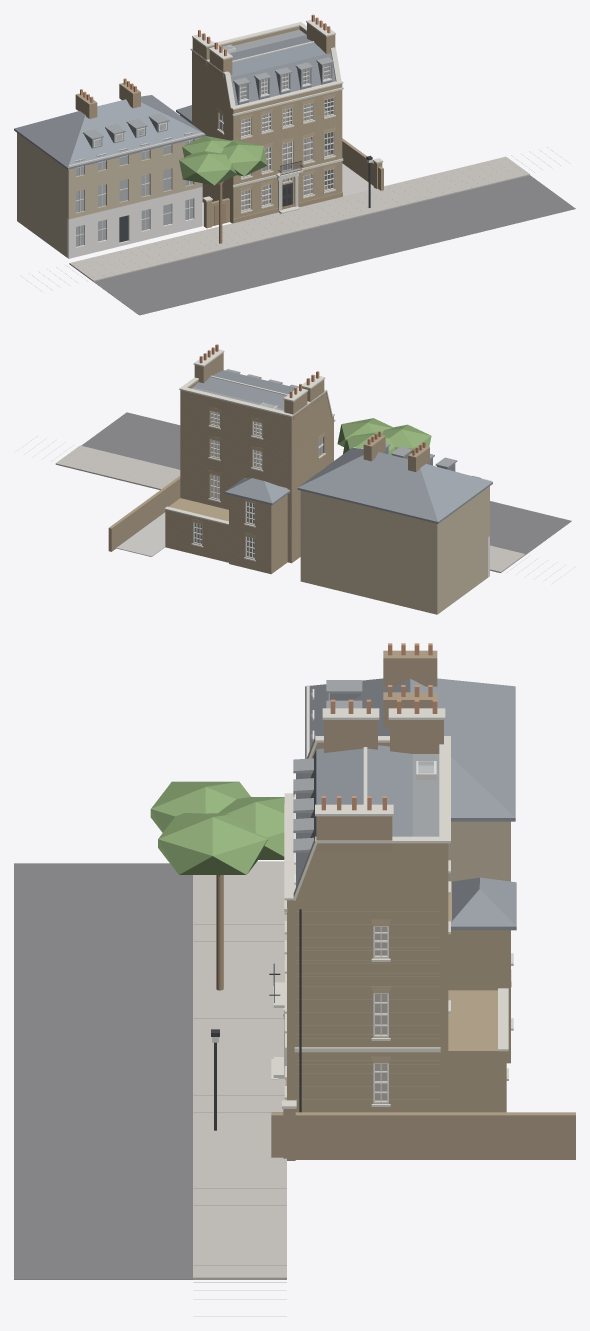
The model's file is clay-georgian-terrace-house-clay-v003.glb.
3 renders of one model, top to bottom at view 1: azimuth 30°, elevation 25°; view 2: azimuth 150°, elevation 25°; view 3: azimuth 270°, elevation 25°, orthographic. The views are drawn at different scales.
Visible parts, largest first — view 1: CLAY_ASPHALT, CLAY_ROOF, CLAY_WALL, CLAY_PAVING, CLAY_NEIGHBOUR, CLAY_TRIM, CLAY_GLASS, CLAY_STUCCO, CLAY_STONE, CLAY_BRICK, CLAY_PLANTING, CLAY_LEAD (+8 smaller); view 2: CLAY_WALL, CLAY_NEIGHBOUR, CLAY_ROOF, CLAY_ASPHALT, CLAY_BRICK, CLAY_PAVING, CLAY_STONE, CLAY_PLANTING, CLAY_TRIM, CLAY_CONCRETE, CLAY_GLASS, CLAY_LEAD (+4 smaller); view 3: CLAY_ASPHALT, CLAY_WALL, CLAY_PAVING, CLAY_BRICK, CLAY_ROOF, CLAY_PLANTING, CLAY_STONE, CLAY_JOINT, CLAY_LEAD, CLAY_NEIGHBOUR, CLAY_GLASS, CLAY_POT (+4 smaller).
Boxes of the visible parts, bbox=[...] form: CLAY_ASPHALT: bbox=[94, 175, 575, 315]; CLAY_ROOF: bbox=[14, 35, 335, 169]; CLAY_WALL: bbox=[180, 26, 342, 223]; CLAY_PAVING: bbox=[69, 156, 529, 281]; CLAY_NEIGHBOUR: bbox=[17, 133, 202, 257]; CLAY_TRIM: bbox=[75, 63, 334, 246]; CLAY_GLASS: bbox=[75, 45, 332, 246]; CLAY_STUCCO: bbox=[67, 187, 202, 258]; CLAY_STONE: bbox=[68, 18, 383, 215]; CLAY_BRICK: bbox=[75, 23, 383, 228]; CLAY_PLANTING: bbox=[179, 136, 267, 185]; CLAY_LEAD: bbox=[83, 29, 333, 139]; CLAY_WALL: bbox=[165, 380, 333, 574]; CLAY_NEIGHBOUR: bbox=[300, 486, 489, 614]; CLAY_ROOF: bbox=[194, 370, 492, 523]; CLAY_ASPHALT: bbox=[81, 412, 571, 554]; CLAY_BRICK: bbox=[108, 353, 429, 551]; CLAY_PAVING: bbox=[55, 445, 525, 573]; CLAY_STONE: bbox=[164, 348, 490, 561]; CLAY_PLANTING: bbox=[337, 418, 431, 454]; CLAY_TRIM: bbox=[193, 410, 481, 559]; CLAY_CONCRETE: bbox=[116, 512, 165, 556]; CLAY_GLASS: bbox=[194, 402, 322, 557]; CLAY_LEAD: bbox=[192, 369, 457, 468]; CLAY_ASPHALT: bbox=[14, 863, 192, 1279]; CLAY_WALL: bbox=[287, 742, 510, 1112]; CLAY_PAVING: bbox=[193, 861, 286, 1279]; CLAY_BRICK: bbox=[271, 650, 575, 1160]; CLAY_ROOF: bbox=[296, 678, 516, 930]; CLAY_PLANTING: bbox=[150, 781, 284, 874]; CLAY_STONE: bbox=[271, 685, 513, 1108]; CLAY_JOINT: bbox=[193, 865, 439, 1316]; CLAY_LEAD: bbox=[293, 680, 439, 852]; CLAY_NEIGHBOUR: bbox=[448, 821, 510, 881]; CLAY_GLASS: bbox=[312, 690, 433, 1100]; CLAY_POT: bbox=[321, 643, 437, 810].
Size of the model in its own units: 53.12 by 15.92 by 25.1.
